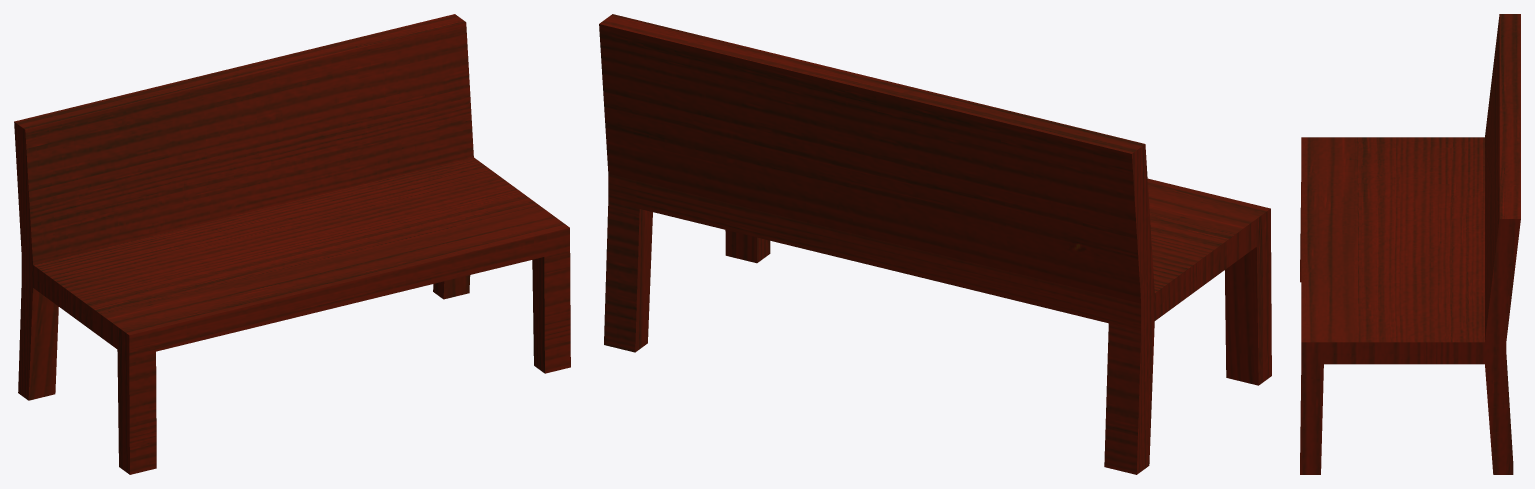
The model's file is bench.obj.
The picture shows the model from 3 angles, left to right: view 1: azimuth 30°, elevation 25°; view 2: azimuth 150°, elevation 25°; view 3: azimuth 270°, elevation 25°; orthographic projection. The views are drawn at different scales.
Visible parts, largest first — view 1: bench; view 2: bench; view 3: bench.
Part boxes in pixels (x1,y1,x2,y2): bench: (14, 14, 570, 474); bench: (599, 14, 1271, 474); bench: (1300, 14, 1520, 474).
Bounding box in the file's own units: 2.3 × 1.34 × 1.05.
Materials: 1 (1 with a texture image).
